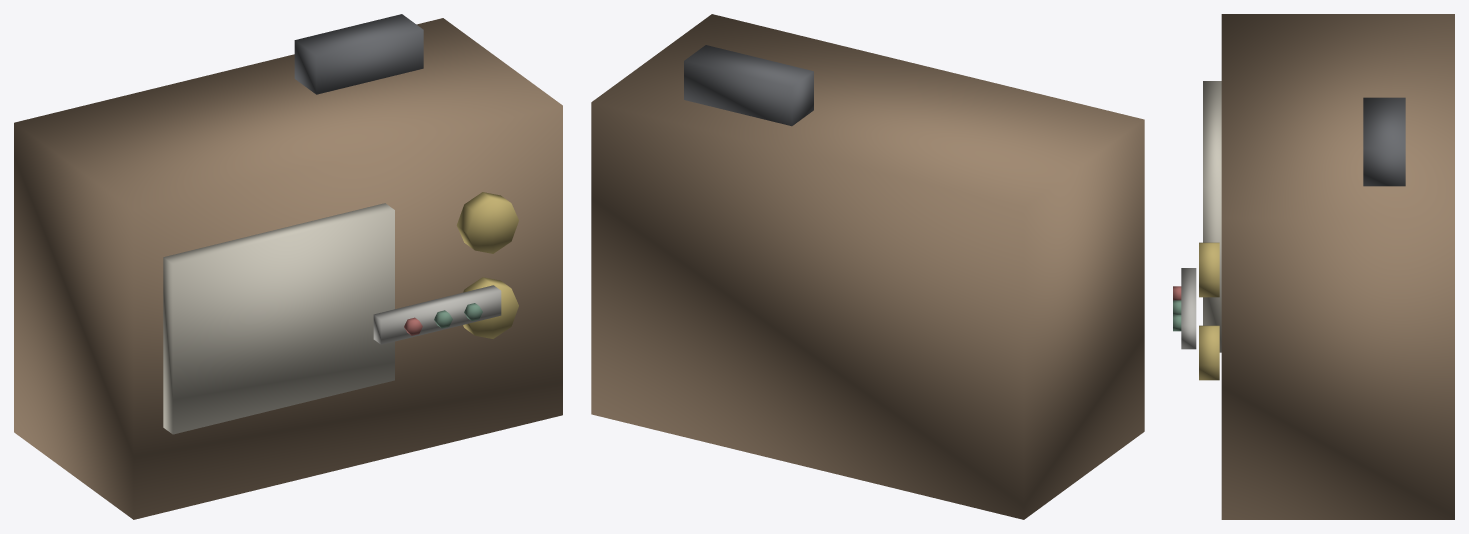
File: tube_radio__service.glb
3 renders of one model, left to right at view 1: azimuth 30°, elevation 25°; view 2: azimuth 150°, elevation 25°; view 3: azimuth 270°, elevation 25°, orthographic. The views are drawn at different scales.
Visible parts, largest first — view 1: world; view 2: world; view 3: world.
Boxes of the visible parts, bbox=[...] form: world: bbox=[14, 14, 562, 519]; world: bbox=[591, 14, 1144, 519]; world: bbox=[1173, 14, 1454, 519].
Size of the model in its own units: 0.58 by 0.45 by 0.3385.
